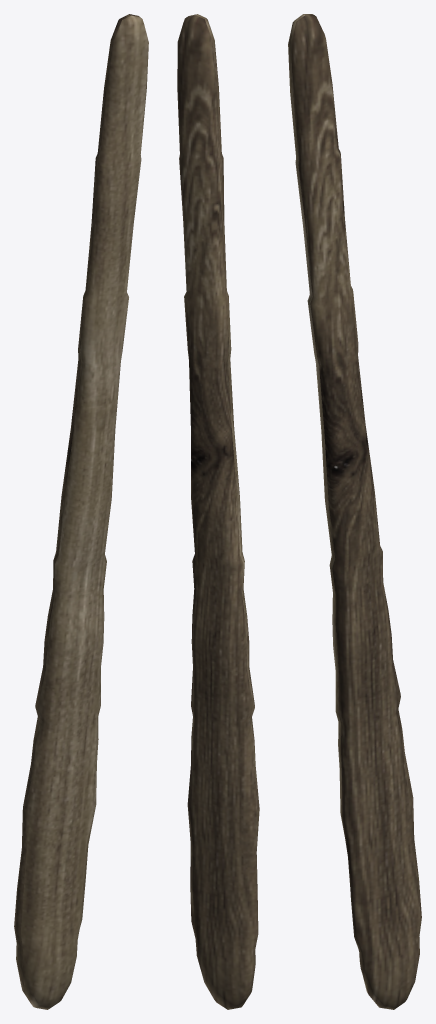
File: baton.fbx
3 renders of one model, left to right at view 1: azimuth 90°, elevation 25°; view 2: azimuth 210°, elevation 25°; view 3: azimuth 270°, elevation 25°, orthographic. The views are drawn at different scales.
Visible parts, largest first — view 1: Baton; view 2: Baton; view 3: Baton.
Boxes of the visible parts, x1,y1,x2,y2 form: Baton: (14,14,148,1009); Baton: (177,14,259,1009); Baton: (288,14,421,1009).
Size of the model in its own units: 9.86 by 188 by 23.03.
1 material, 1 textured.
